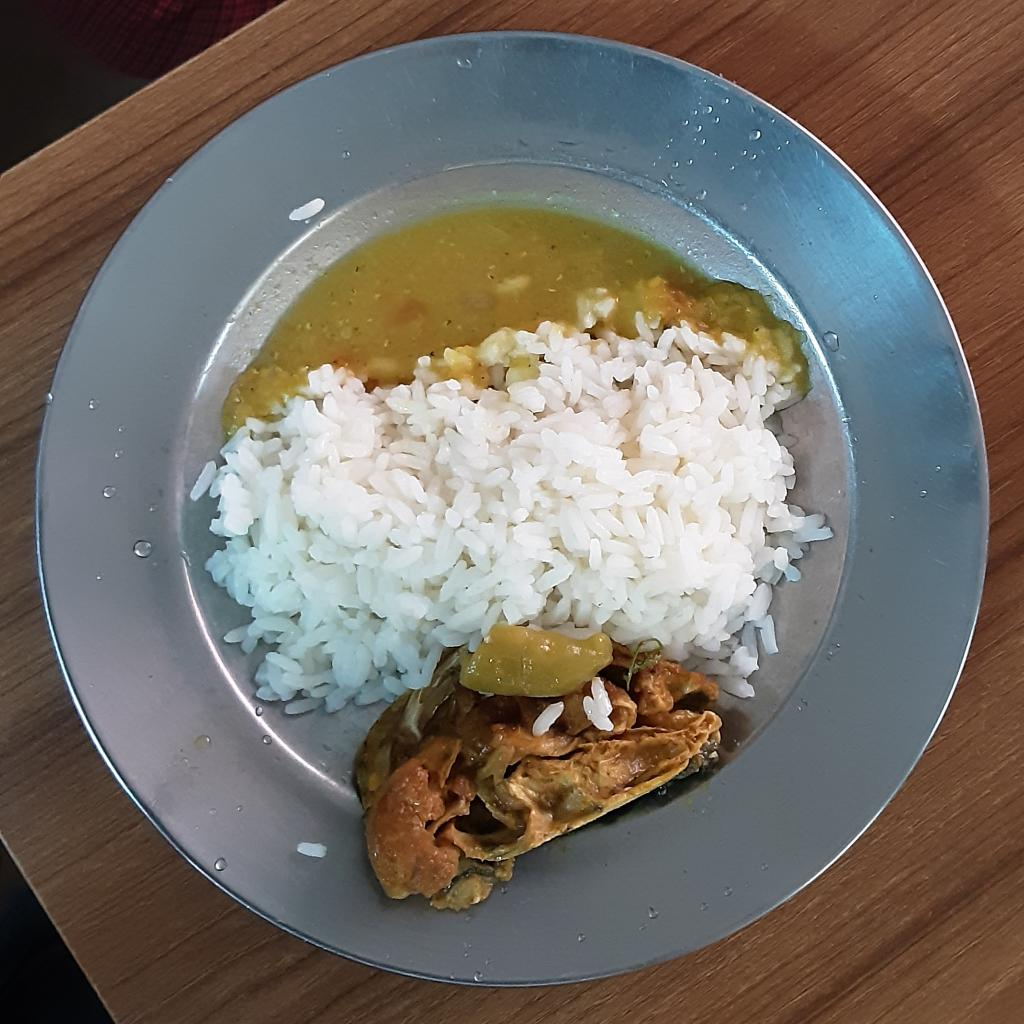daal: (219, 200, 795, 446)
fish: (353, 623, 722, 909)
rice: (200, 295, 829, 719)
